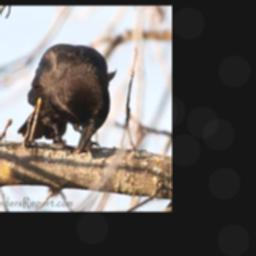Crow: (16, 42, 120, 154)
